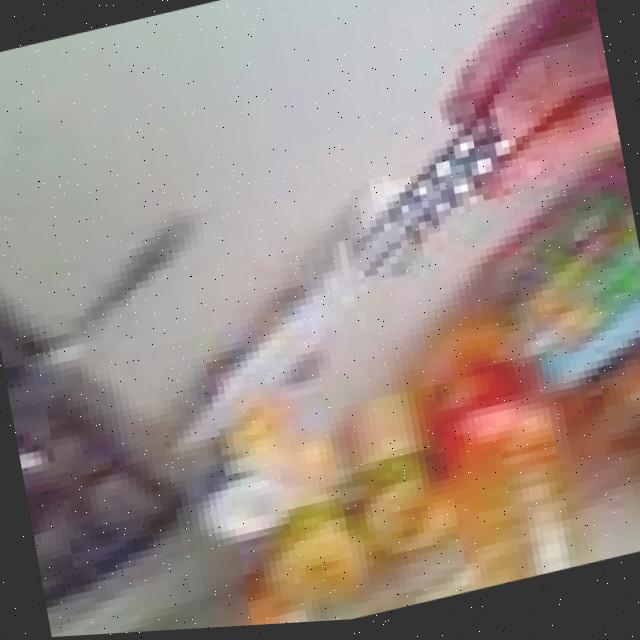knife: (114, 101, 570, 466)
